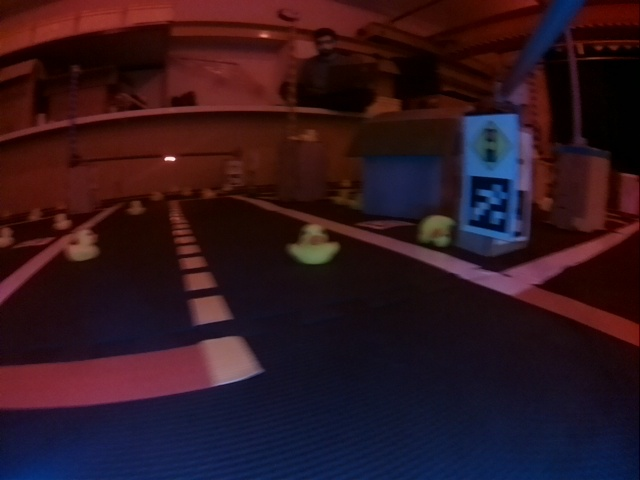Duckie: (289, 223, 336, 264), (418, 215, 456, 247), (65, 229, 99, 260), (128, 201, 143, 215)
QR code: (466, 176, 509, 233), (360, 219, 412, 231), (15, 237, 55, 246)
Signal sign: (473, 121, 510, 165)
